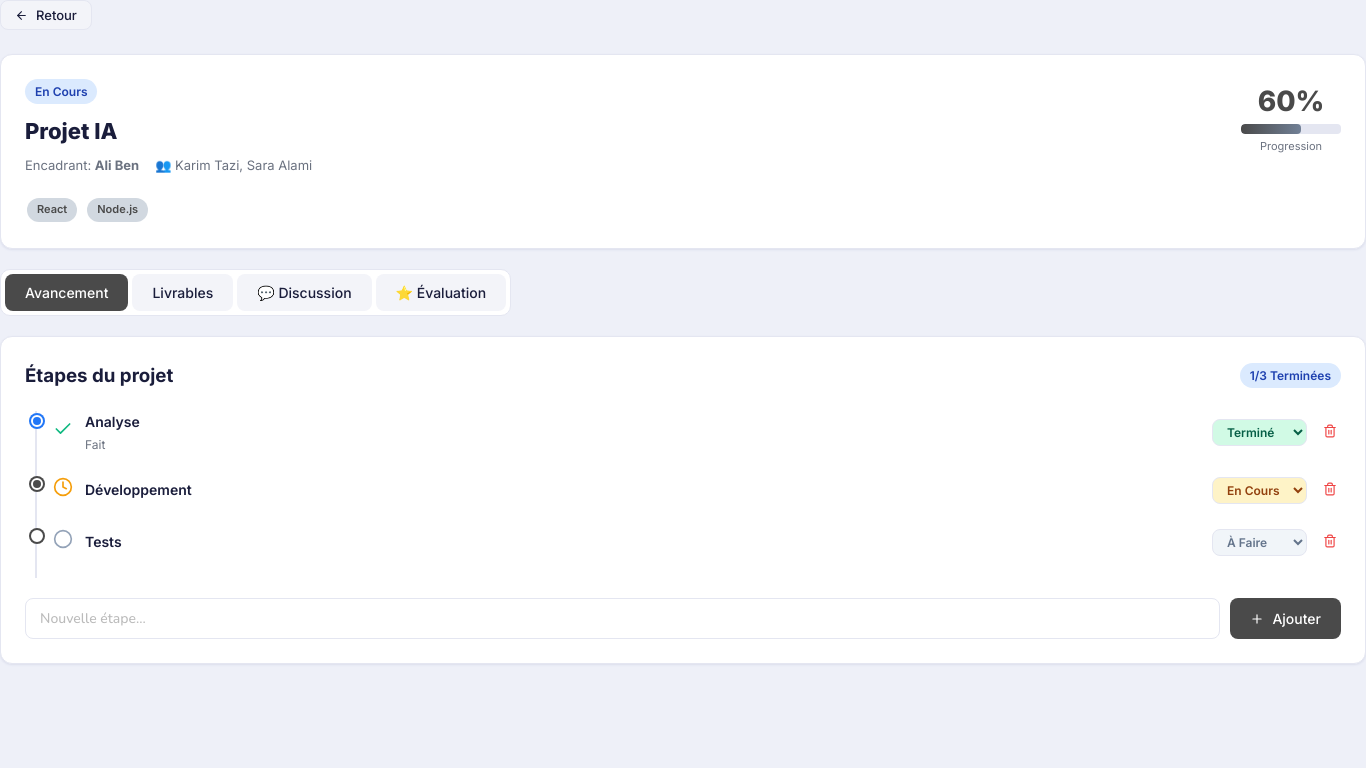
Test case: ProjectDetailPage - Messages Tab › shows empty message state when no messages
This screenshot has width=1366, height=768.
Expected: the heading "Projet IA" is shown, [25,118,118,144]
Step 1. Click the button "💬 Discussion" → (304, 292), box [237,274,372,311]
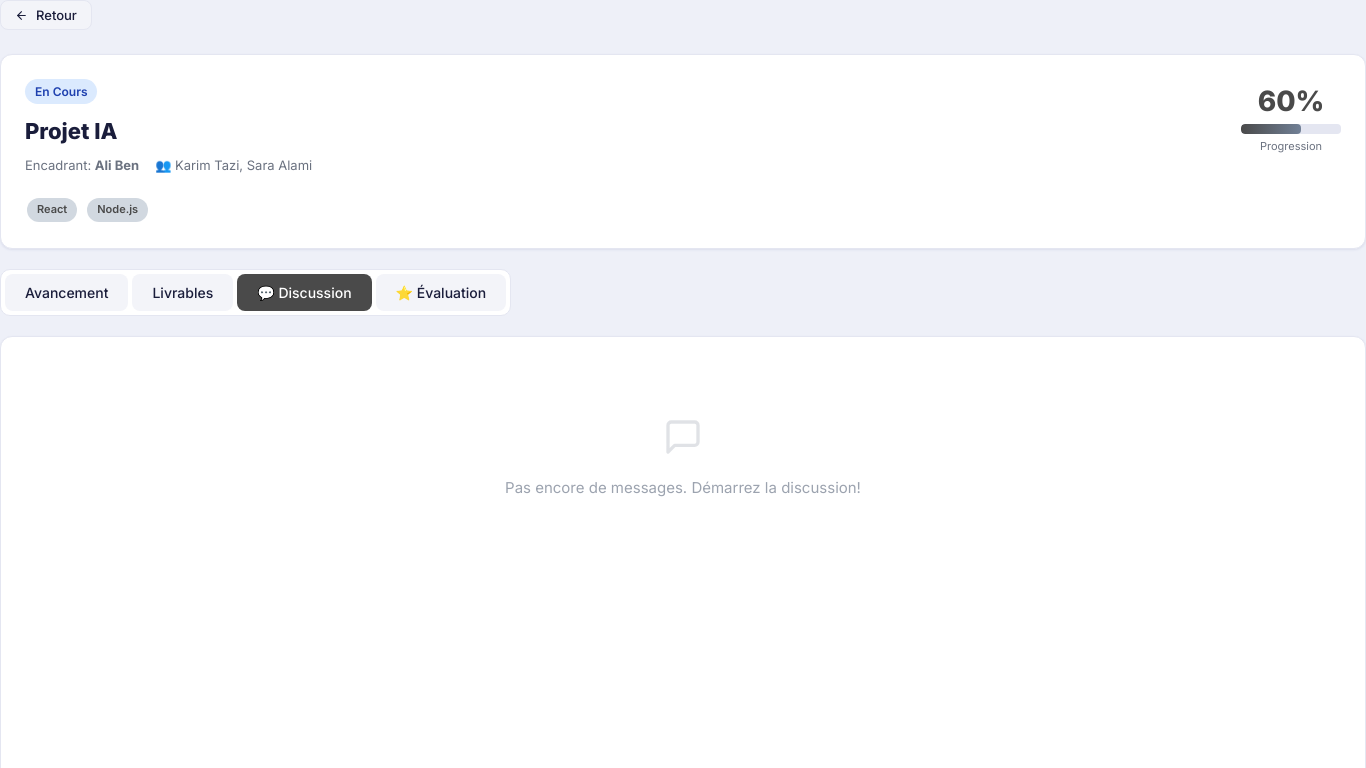
Result: the text "Pas encore de messages. Démarrez la discussion!" is shown at [505,478,861,497]
